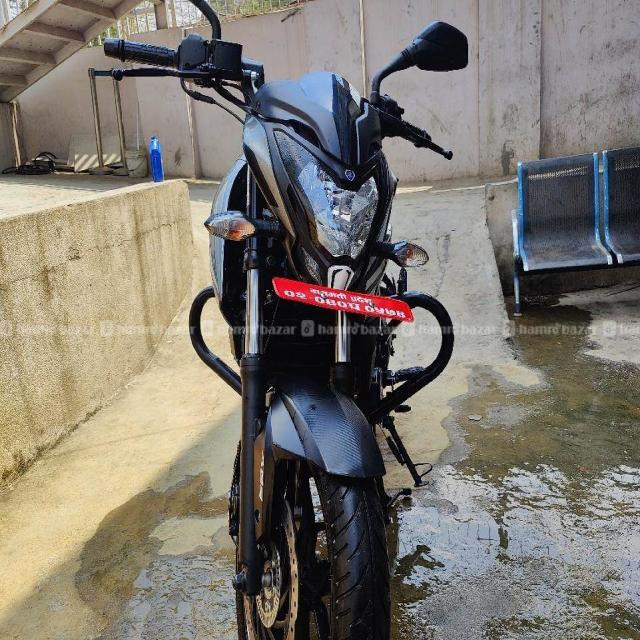License-plate: (261, 275, 414, 325)
